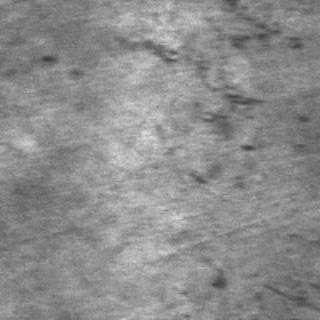rolled pit: (106, 3, 278, 179), (206, 261, 318, 309)
